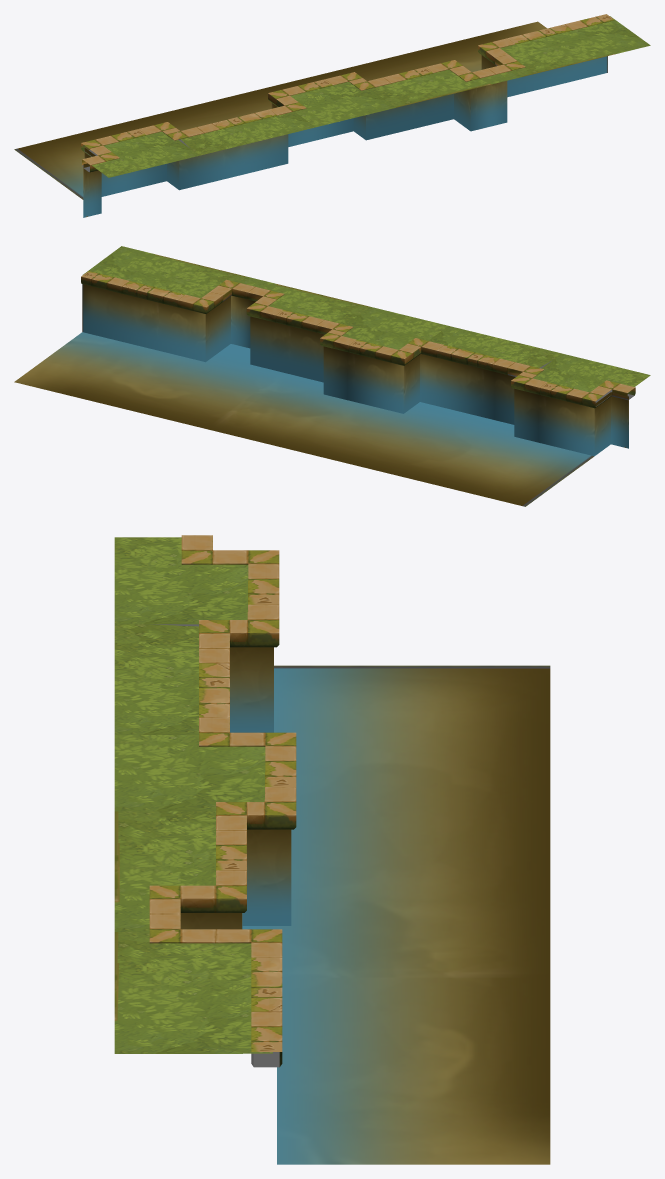
The model's file is Remains_back_01.fbx.
3 renders of one model, top to bottom at view 1: azimuth 30°, elevation 25°; view 2: azimuth 150°, elevation 25°; view 3: azimuth 270°, elevation 25°, orthographic. The views are drawn at different scales.
Visible parts, largest first — view 1: Remains_back_01; view 2: Remains_back_01; view 3: Remains_back_01.
Part boxes in pixels (box(x1,y1,x2,y2)): Remains_back_01: box(14, 14, 650, 217); Remains_back_01: box(14, 246, 650, 506); Remains_back_01: box(114, 535, 550, 1164).
Bounding box in the file's own units: 2365 × 240 × 841.
